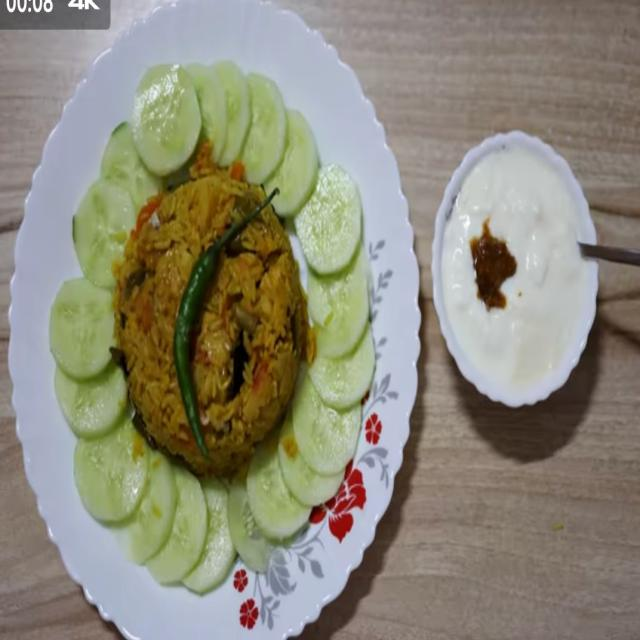BIRIYANI: (118, 170, 300, 482)
CURD: (442, 152, 582, 390)
